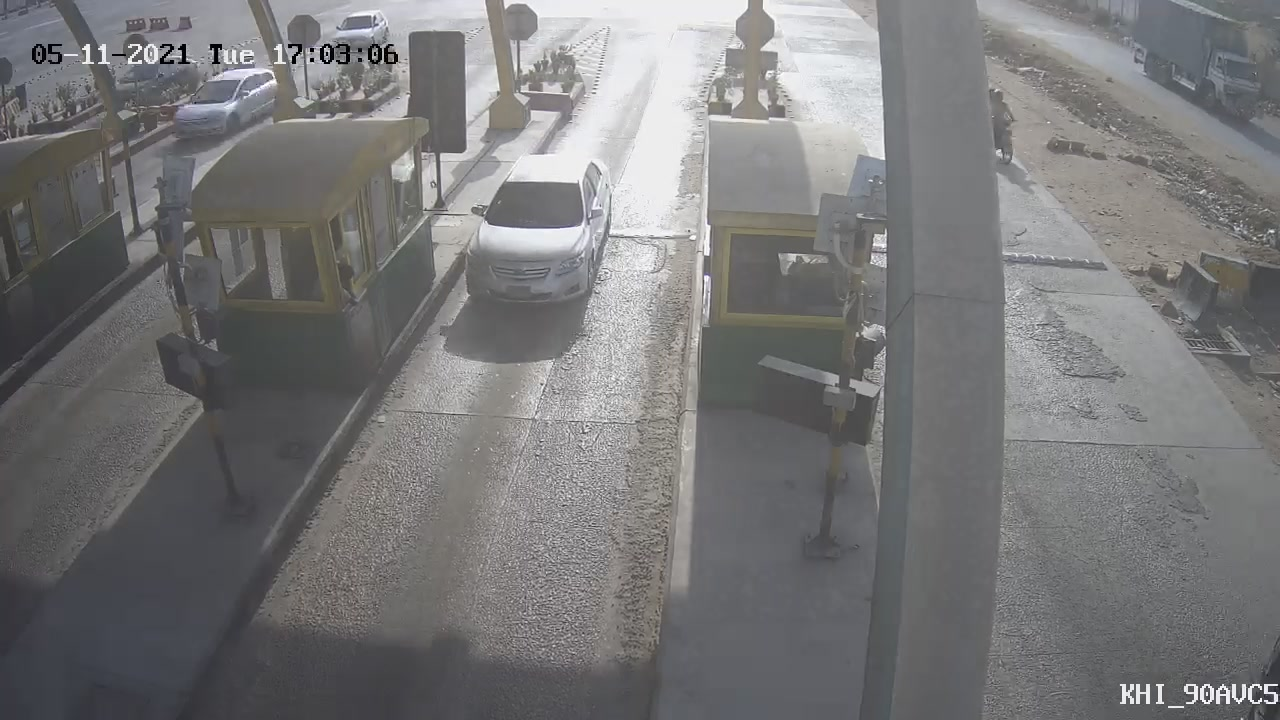F1: (437, 136, 640, 330)
